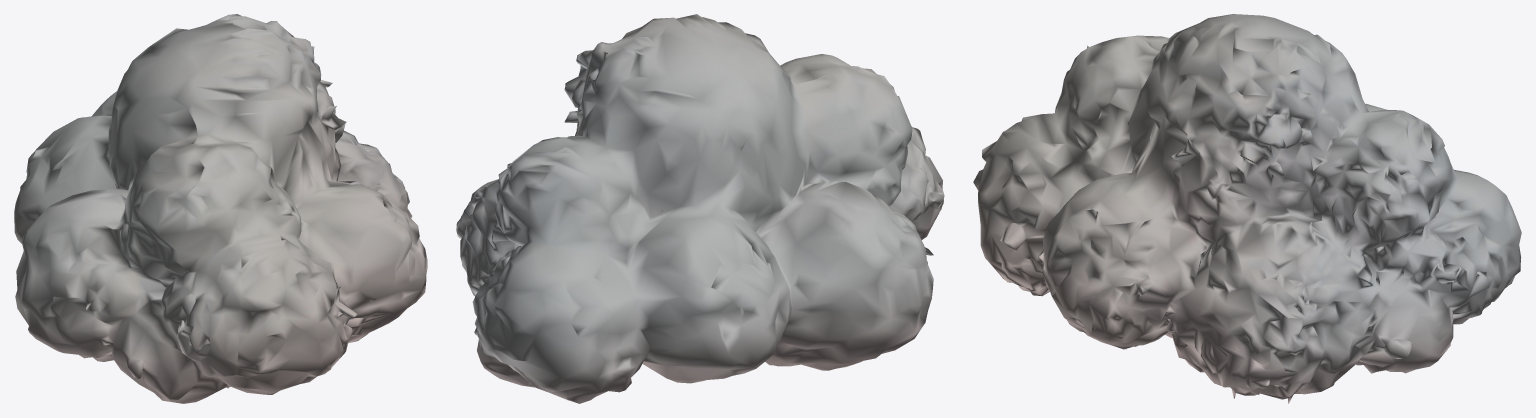
The model's file is cloud.glb.
3 views of the same model, side by side, from view 1: azimuth 30°, elevation 25°; view 2: azimuth 150°, elevation 25°; view 3: azimuth 270°, elevation 25° (orthographic). The views are drawn at different scales.
Parts seen in each view (by area): view 1: tripo_node_8e335e3f-80b0-4603-b873-13fb67124510; view 2: tripo_node_8e335e3f-80b0-4603-b873-13fb67124510; view 3: tripo_node_8e335e3f-80b0-4603-b873-13fb67124510.
Part boxes in pixels (x1=…): tripo_node_8e335e3f-80b0-4603-b873-13fb67124510: x1=14, y1=14, x2=427, y2=403; tripo_node_8e335e3f-80b0-4603-b873-13fb67124510: x1=456, y1=14, x2=944, y2=403; tripo_node_8e335e3f-80b0-4603-b873-13fb67124510: x1=973, y1=14, x2=1521, y2=403.
Size of the model in its own units: 0.8759 by 0.6405 by 0.9792.
1 material, 1 textured.
